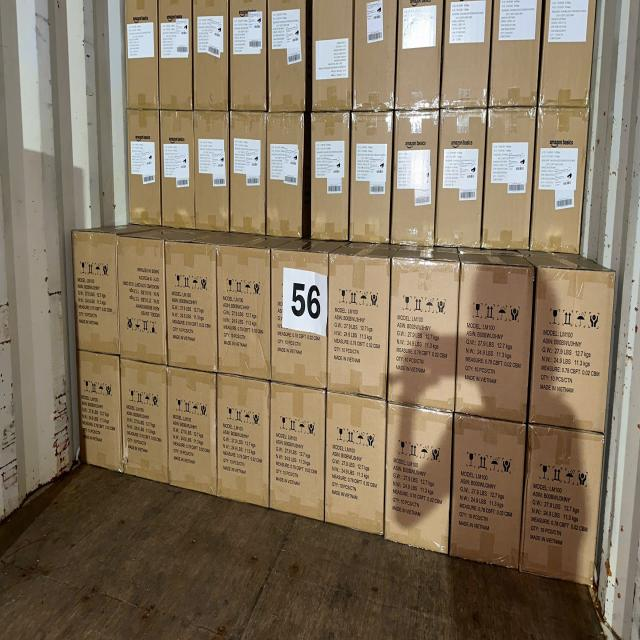Carton: (534, 268, 612, 432), (528, 427, 604, 582), (457, 264, 531, 422), (454, 416, 525, 570), (390, 264, 458, 412), (388, 408, 453, 555), (327, 255, 391, 400), (327, 392, 388, 534), (271, 249, 329, 385), (535, 106, 587, 254), (215, 248, 270, 383), (269, 388, 324, 520), (216, 374, 269, 506), (168, 241, 222, 370), (485, 108, 532, 248), (118, 235, 168, 364), (168, 372, 220, 496), (121, 360, 170, 486), (438, 110, 482, 250), (72, 232, 120, 357), (396, 112, 438, 249), (78, 348, 124, 469), (351, 112, 392, 245), (545, 0, 596, 105), (492, 0, 541, 106), (313, 114, 352, 243), (442, 0, 489, 105), (267, 114, 306, 238), (400, 0, 444, 108), (228, 112, 265, 234), (354, 0, 396, 107), (268, 0, 308, 111), (314, 0, 354, 110), (196, 112, 230, 231), (228, 0, 265, 108), (159, 112, 193, 228), (127, 110, 160, 228), (194, 0, 229, 108), (157, 0, 191, 109), (125, 0, 158, 109)
